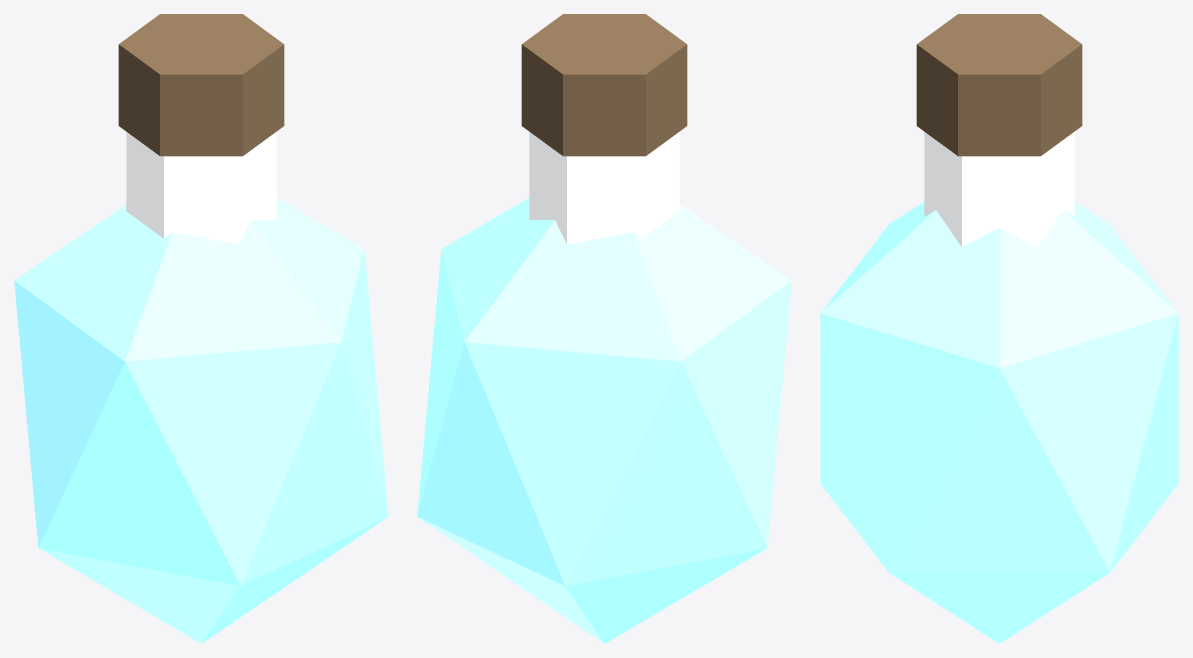
File: potion_mana.glb
3 renders of one model, left to right at view 1: azimuth 30°, elevation 25°; view 2: azimuth 150°, elevation 25°; view 3: azimuth 270°, elevation 25°, orthographic.
Parts seen in each view (by area): view 1: PotionMana, PotionManaCork, PotionManaNeck; view 2: PotionMana, PotionManaCork, PotionManaNeck; view 3: PotionMana, PotionManaCork, PotionManaNeck.
Part boxes in pixels (x1,y1,x2,y2): PotionMana: (14,198,388,643); PotionManaCork: (118,14,284,156); PotionManaNeck: (126,132,276,244); PotionMana: (417,198,791,643); PotionManaCork: (521,14,687,156); PotionManaNeck: (529,132,679,244); PotionMana: (820,202,1178,643); PotionManaCork: (916,14,1082,156); PotionManaNeck: (924,132,1074,246).
Bounding box in the file's own units: 0.5009 × 0.88 × 0.4764.
